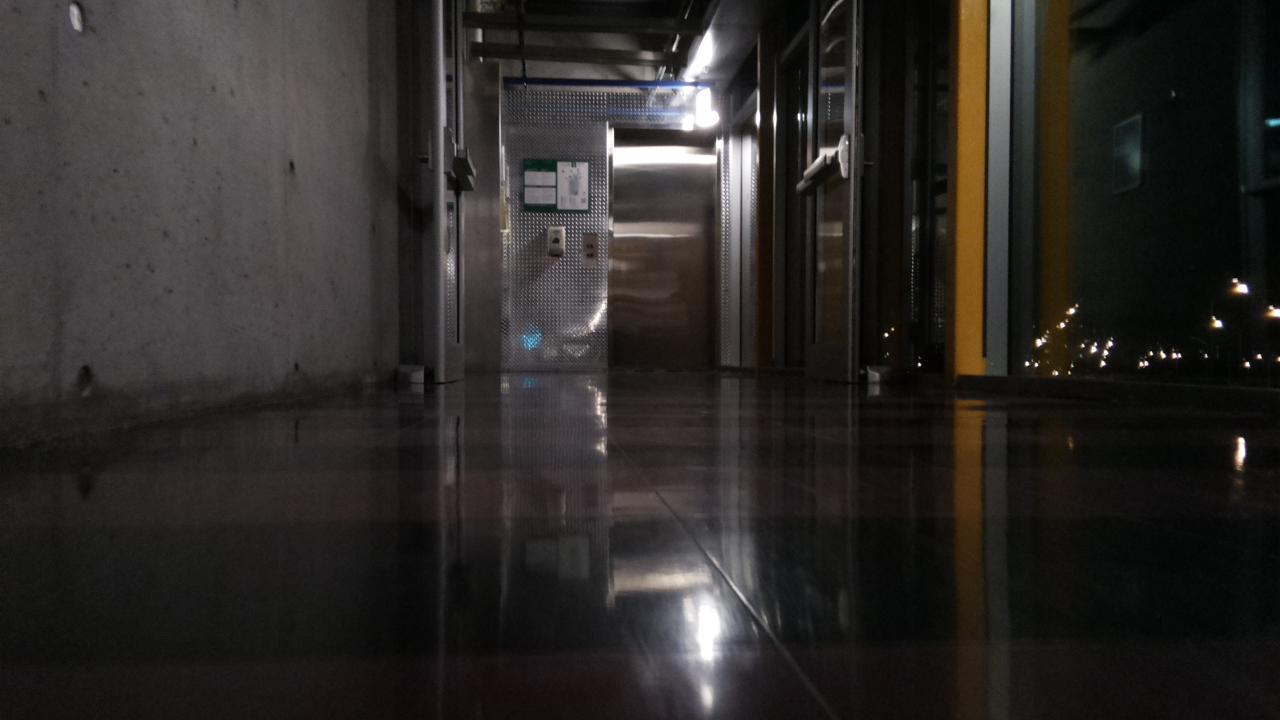door: (612, 129, 715, 369)
sign: (523, 159, 589, 210)
